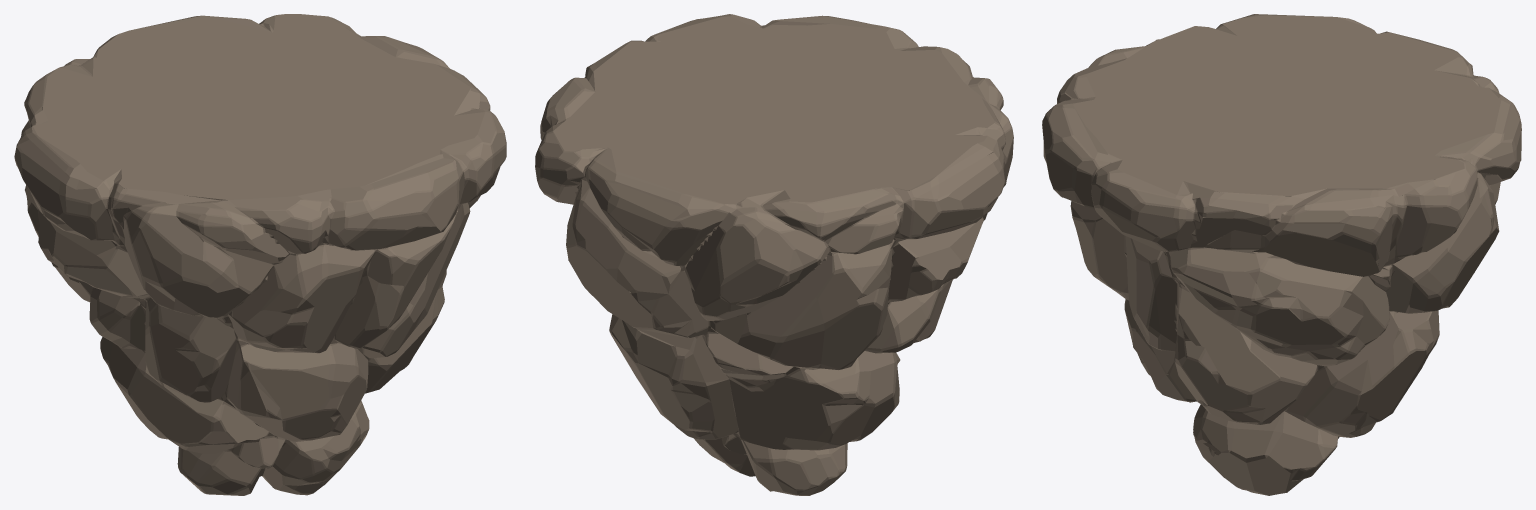
File: 低模浮岛.fbx
3 renders of one model, left to right at view 1: azimuth 30°, elevation 25°; view 2: azimuth 150°, elevation 25°; view 3: azimuth 270°, elevation 25°, orthographic. The views are drawn at different scales.
Visible parts, largest first — view 1: rock1.001; view 2: rock1.001; view 3: rock1.001.
Part boxes in pixels (<box>): rock1.001: <box>14,14,506,495</box>; rock1.001: <box>535,14,1013,495</box>; rock1.001: <box>1042,14,1521,495</box>.
Bounding box in the file's own units: 1275 × 1122 × 1306.
